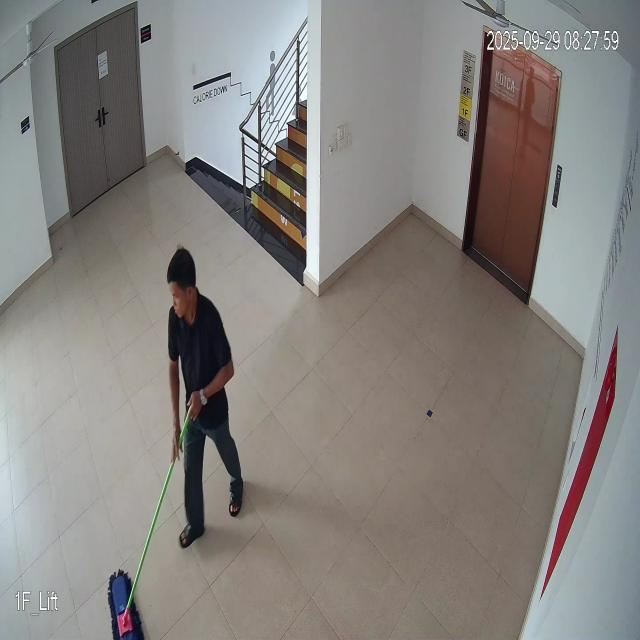face: (165, 250, 199, 324)
